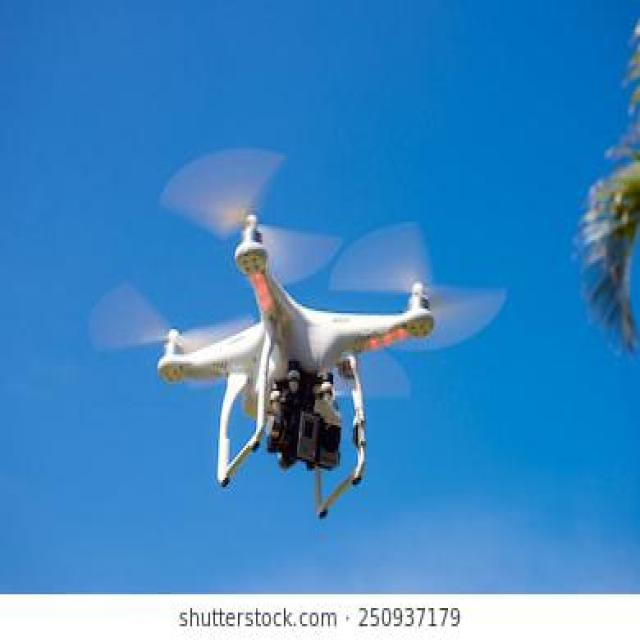drone: (77, 119, 522, 546)
